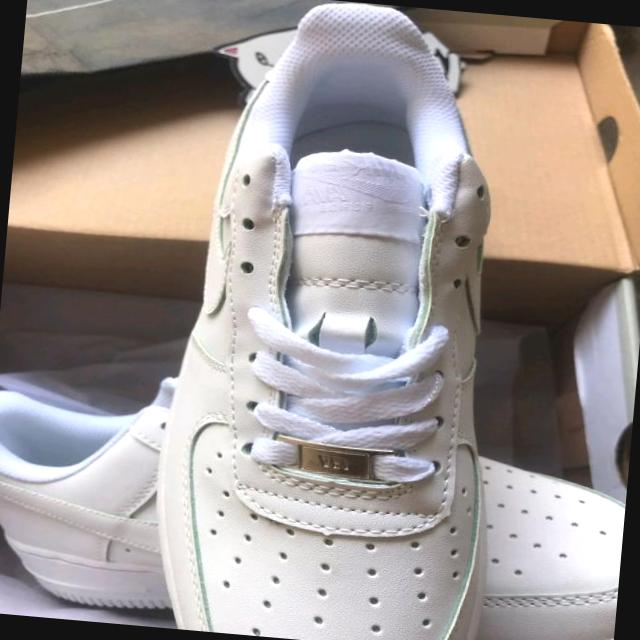nike_fake_airforce: (137, 0, 531, 640), (0, 383, 630, 640)
